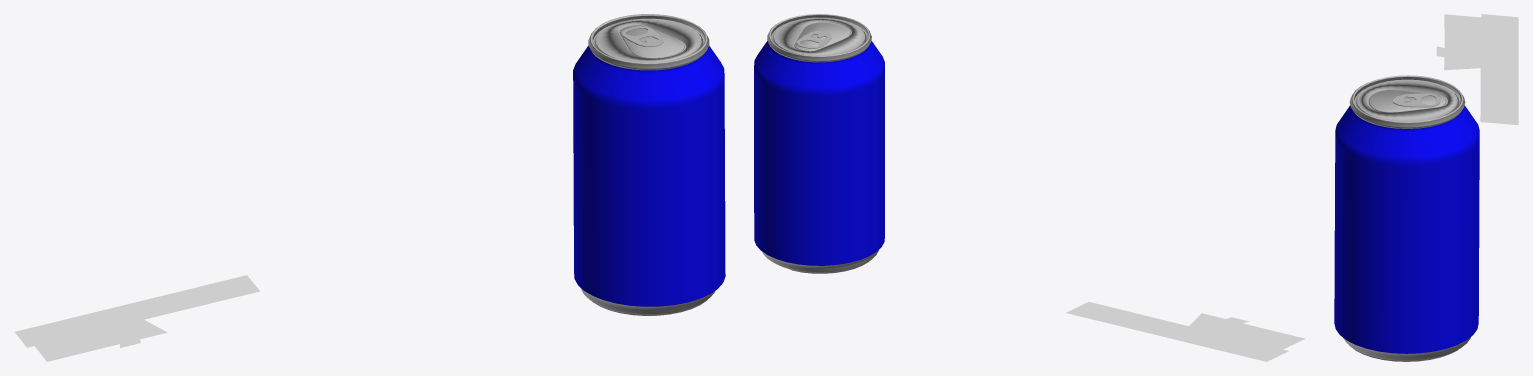
The model's file is can.gltf.
3 renders of one model, left to right at view 1: azimuth 30°, elevation 25°; view 2: azimuth 150°, elevation 25°; view 3: azimuth 270°, elevation 25°, orthographic. The views are drawn at different scales.
Visible parts, largest first — view 1: Can-label, Can-main, Can-upper, Plane, Object; view 2: Can-label, Can-main, Can-upper, Plane, Object; view 3: Can-label, Can-main, Can-upper, Plane, Object, Can-top.
Part boxes in pixels (x1,y1,x2,y2): Can-label: [573, 76, 725, 306]; Can-main: [580, 14, 715, 315]; Can-upper: [573, 45, 724, 109]; Plane: [15, 275, 259, 361]; Object: [25, 280, 247, 356]; Can-label: [754, 68, 884, 265]; Can-main: [762, 14, 878, 273]; Can-upper: [754, 41, 884, 95]; Plane: [1066, 302, 1305, 361]; Object: [1080, 305, 1295, 356]; Can-label: [1334, 137, 1479, 353]; Can-main: [1342, 75, 1471, 361]; Can-upper: [1335, 105, 1479, 166]; Plane: [1436, 14, 1518, 125]; Object: [1443, 17, 1510, 119]; Can-top: [1393, 93, 1440, 107].
Bounding box in the file's own units: 13.07 × 4.81 × 3.38.
